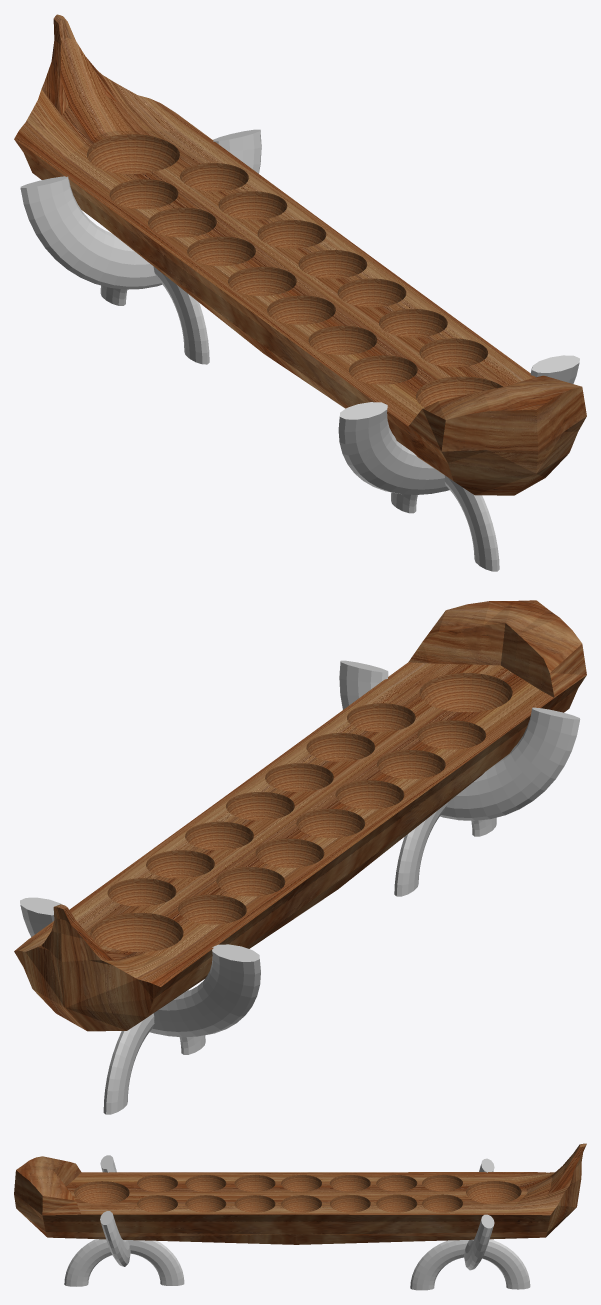
The model's file is congklak.dae.
3 renders of one model, top to bottom at view 1: azimuth 30°, elevation 25°; view 2: azimuth 150°, elevation 25°; view 3: azimuth 270°, elevation 25°, orthographic. The views are drawn at different scales.
Visible parts, largest first — view 1: Cube, Torus, Torus_001; view 2: Cube, Torus_001, Torus; view 3: Cube, Torus, Torus_001.
Part boxes in pixels (x1,y1,x2,y2): Cube: (14, 14, 586, 495); Torus: (20, 129, 261, 364); Torus_001: (338, 355, 579, 571); Cube: (14, 600, 586, 1031); Torus_001: (339, 660, 580, 896); Torus: (20, 897, 260, 1114); Cube: (14, 1143, 586, 1244); Torus: (410, 1158, 530, 1290); Torus_001: (64, 1155, 184, 1286).
Bounding box in the file's own units: 2.96 × 2.85 × 10.26.
